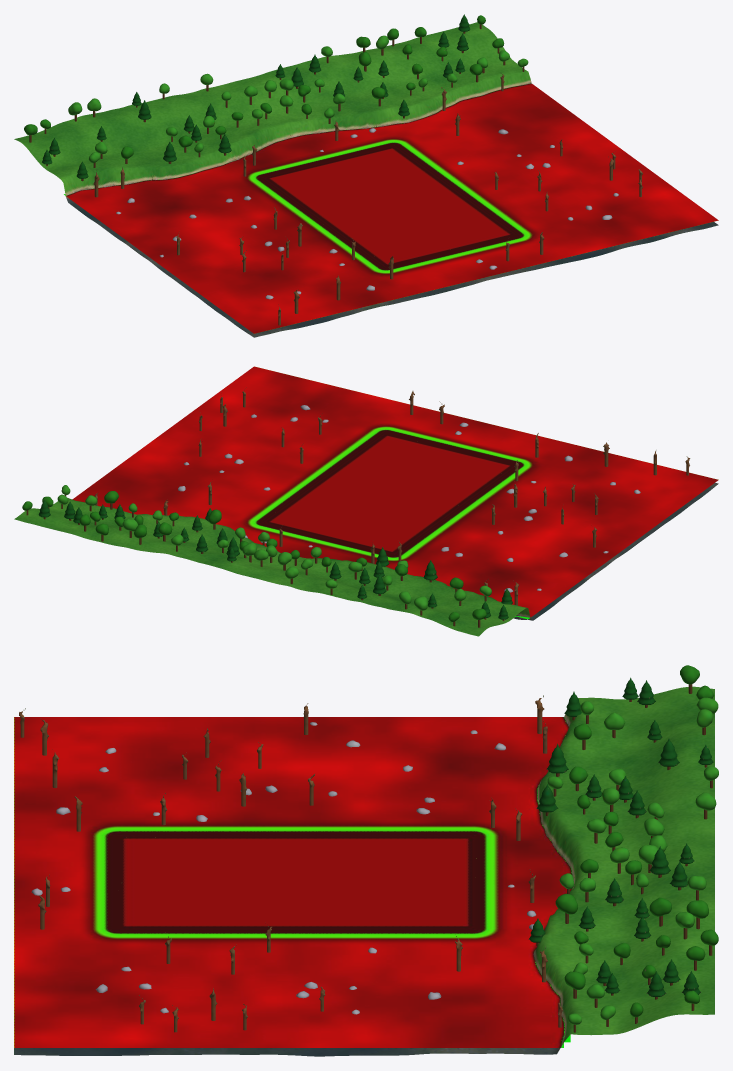
Rendered from surroundings_13x23.glb.
3 views of the same model, one above another, from view 1: azimuth 30°, elevation 25°; view 2: azimuth 150°, elevation 25°; view 3: azimuth 270°, elevation 25° (orthographic). The views are drawn at different scales.
Visible parts, largest first — view 1: water, ground, props; view 2: water, ground, props; view 3: water, ground, props.
Part boxes in pixels (left/top/right/bottom): water: left=64, top=83, right=718, bottom=333; ground: left=14, top=22, right=718, bottom=337; props: left=24, top=14, right=642, bottom=325; water: left=72, top=366, right=718, bottom=619; ground: left=14, top=482, right=718, bottom=636; props: left=22, top=387, right=690, bottom=627; water: left=14, top=717, right=572, bottom=1047; ground: left=14, top=686, right=714, bottom=1056; props: left=19, top=665, right=718, bottom=1032.
Size of the model in its own units: 57.03 by 5.78 by 51.28.
Materials: 3 (3 with a texture image).
